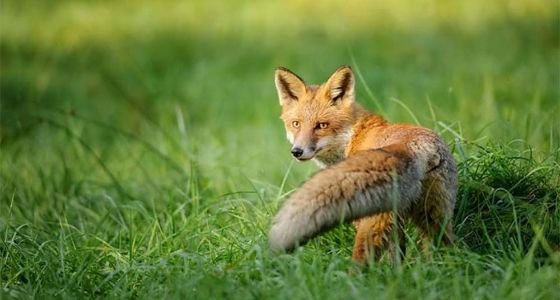fox: (270, 58, 463, 266)
